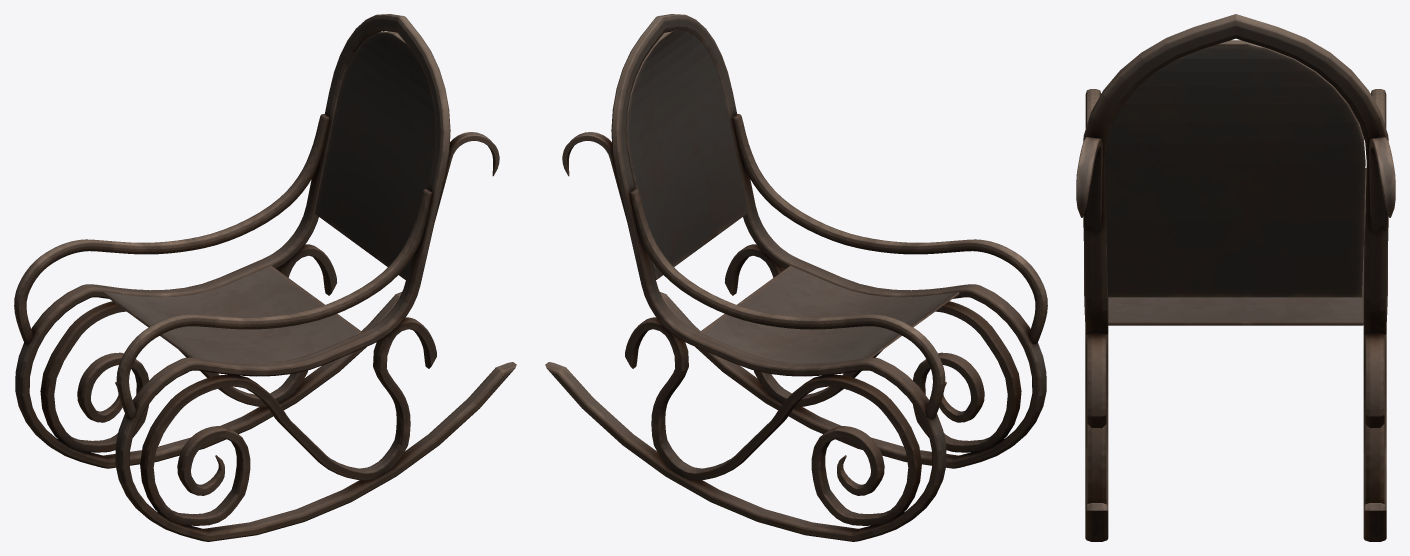
File: SM_PolandianChair.fbx
3 views of the same model, side by side, from view 1: azimuth 30°, elevation 25°; view 2: azimuth 150°, elevation 25°; view 3: azimuth 270°, elevation 25° (orthographic). The views are drawn at different scales.
Visible parts, largest first — view 1: SM_PolandianChair_LOD0; view 2: SM_PolandianChair_LOD0; view 3: SM_PolandianChair_LOD0.
Part boxes in pixels (x1,y1,x2,y2): SM_PolandianChair_LOD0: (14, 14, 516, 541); SM_PolandianChair_LOD0: (545, 14, 1047, 541); SM_PolandianChair_LOD0: (1076, 14, 1395, 541).
Size of the model in its own units: 182 by 90.88 by 189.
1 material, 1 textured.
